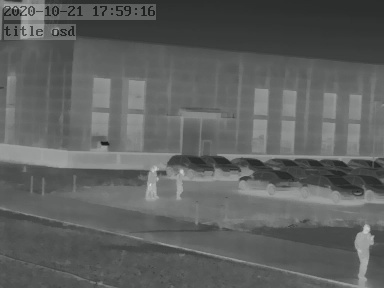person: (352, 220, 379, 281), (144, 165, 160, 198), (174, 169, 185, 201)
vehicle: (303, 173, 359, 200), (162, 152, 212, 179), (238, 170, 302, 191), (204, 153, 243, 177), (349, 173, 382, 200), (233, 154, 269, 171), (262, 155, 296, 170), (347, 156, 381, 170), (318, 156, 348, 170), (295, 156, 325, 169)
